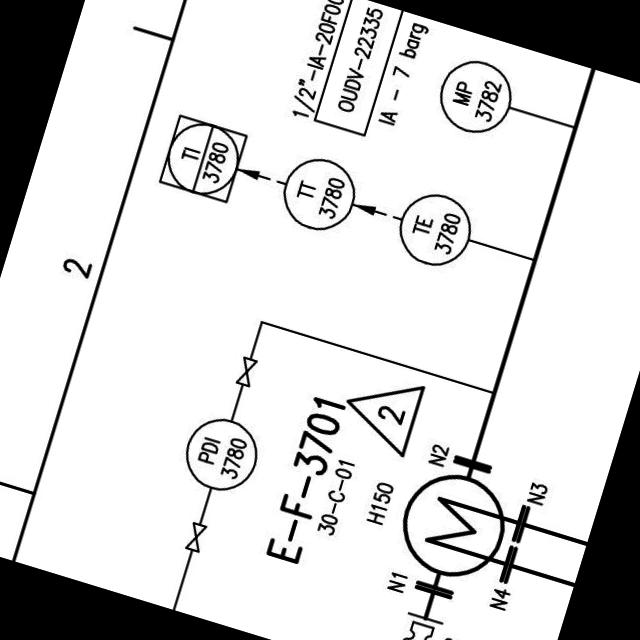GV: (176, 515, 208, 560), (227, 353, 260, 393)
HE: (388, 460, 513, 590)
